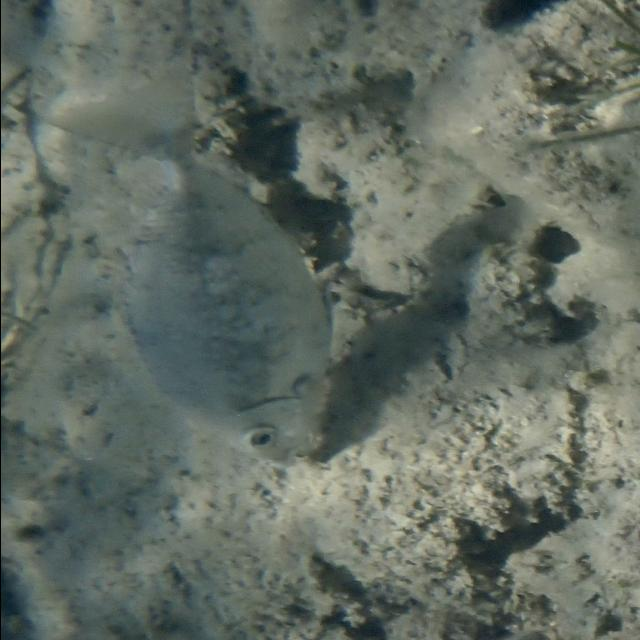Sokar Baligi: (32, 78, 372, 480)
